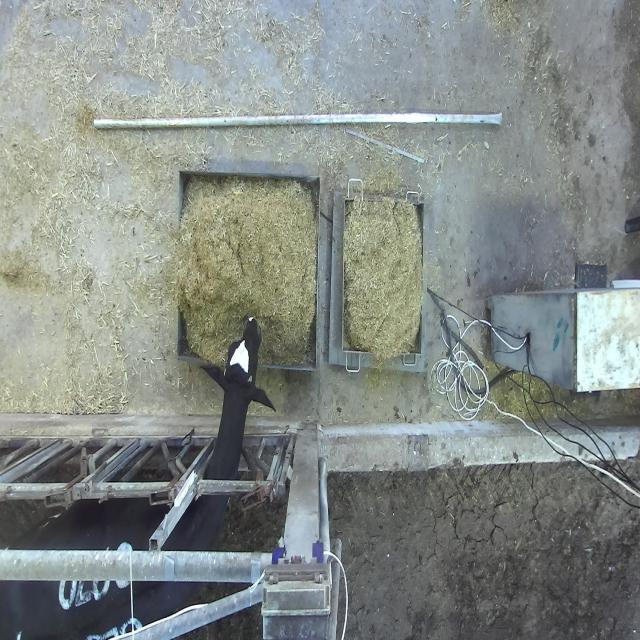cow: (198, 315, 277, 414)
